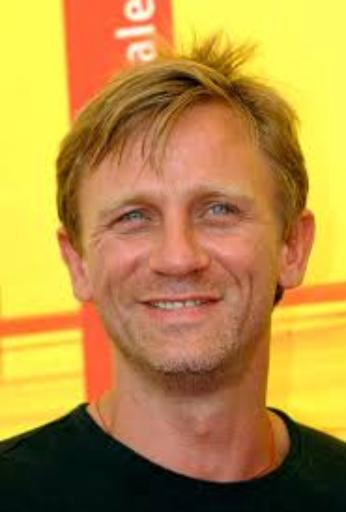left_eye: (198, 201, 244, 222)
left_lip_corner: (211, 292, 229, 310)
right_eye: (109, 208, 158, 231)
right_lip_corner: (134, 296, 155, 313)
